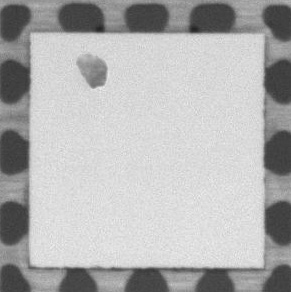DIE_INK: (71, 49, 111, 93)
